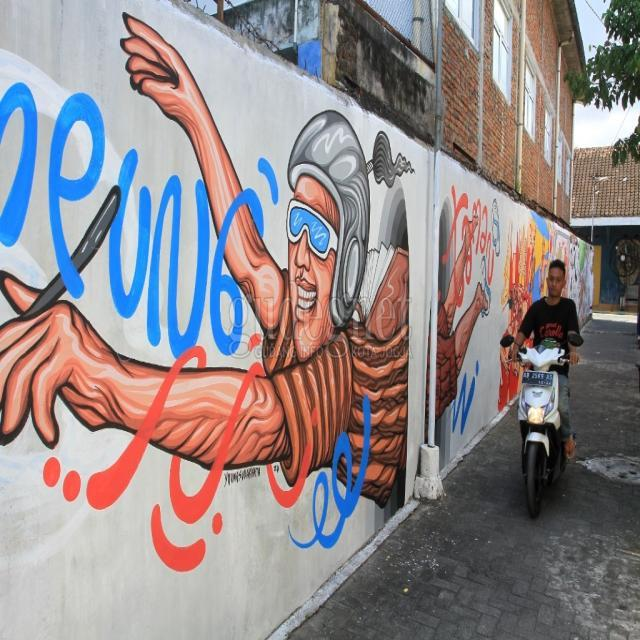-: (0, 9, 410, 571), (440, 188, 500, 436), (501, 205, 559, 405)
